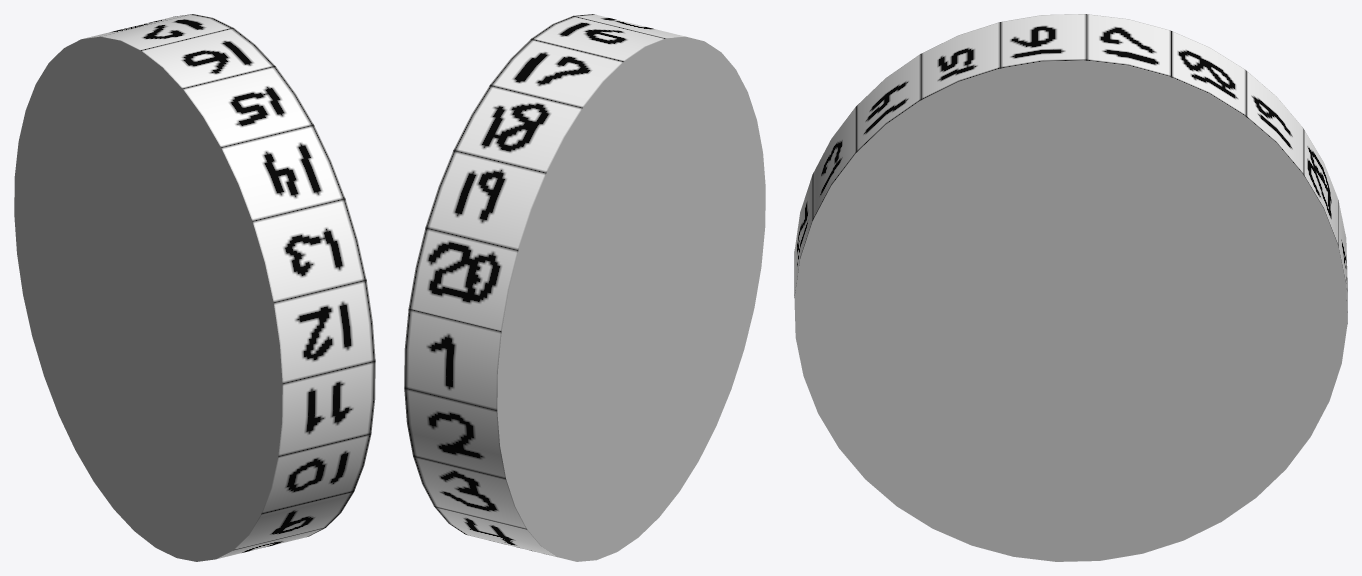
The model's file is SlotWheel.fbx.
The picture shows the model from 3 angles, left to right: view 1: azimuth 30°, elevation 25°; view 2: azimuth 150°, elevation 25°; view 3: azimuth 270°, elevation 25°; orthographic projection. The views are drawn at different scales.
Parts seen in each view (by area): view 1: Circle; view 2: Circle; view 3: Circle.
Boxes of the visible parts, x1,y1,x2,y2 form: Circle: [14, 14, 375, 561]; Circle: [404, 14, 765, 561]; Circle: [794, 14, 1347, 561].
Size of the model in its own units: 2 by 9.99 by 9.99.
